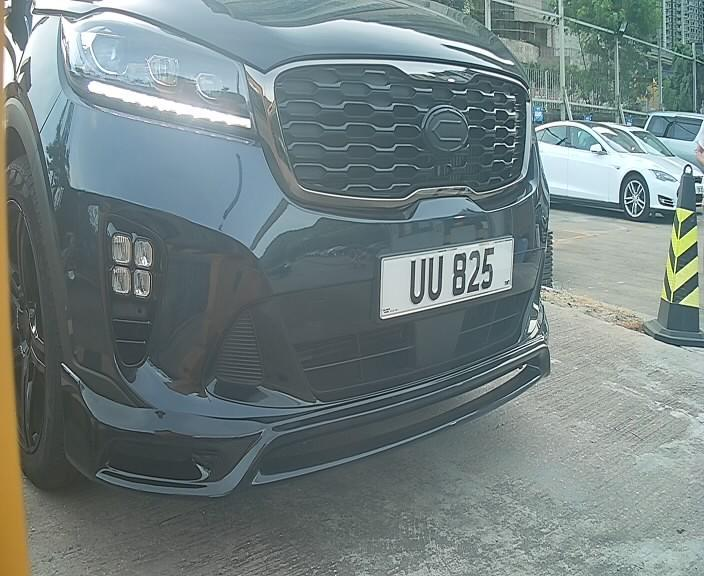privatecar: (10, 11, 604, 492)
